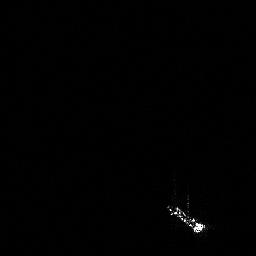ship: (165, 200, 207, 237)
